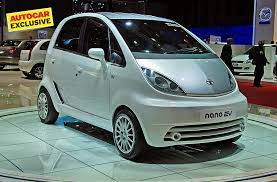Nano: (36, 9, 252, 159)
